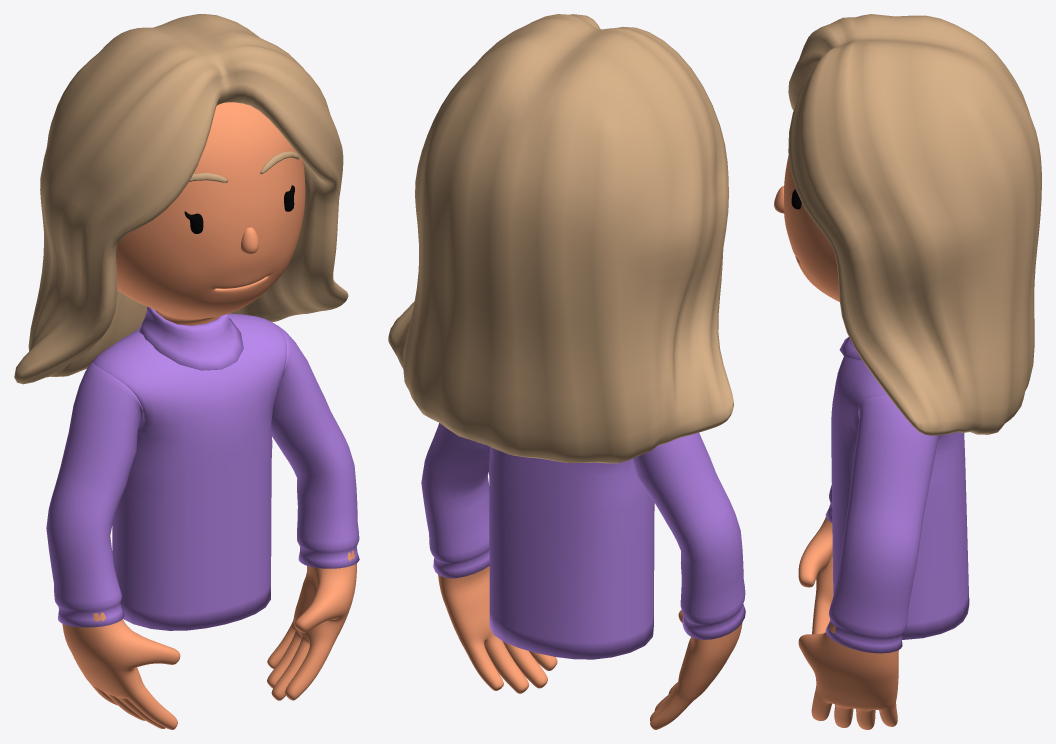
3 renders of one model, left to right at view 1: azimuth 30°, elevation 25°; view 2: azimuth 150°, elevation 25°; view 3: azimuth 270°, elevation 25°, orthographic. The views are drawn at different scales.
Parts seen in each view (by area): view 1: female_turtelneck, Hair_11.001, head, body, Eyebrow.001; view 2: Hair_11.001, female_turtelneck, body; view 3: Hair_11.001, female_turtelneck, body, head.
Boxes of the visible parts, x1,y1,x2,y2 form: female_turtelneck: (46,306,359,630); Hair_11.001: (14,14,348,384); head: (116,102,305,325); body: (62,418,356,729); Eyebrow.001: (189,151,299,182); Hair_11.001: (388,14,733,463); female_turtelneck: (421,423,745,659); body: (438,566,742,729); Hair_11.001: (788,14,1041,435); female_turtelneck: (825,337,969,653); body: (798,517,898,729); head: (784,155,839,301).
Bounding box in the file's own units: 6.91 × 13.25 × 4.82.
